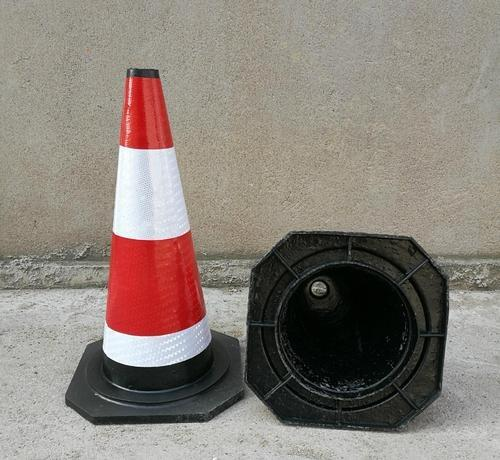cone_barrel: (82, 71, 230, 400)
